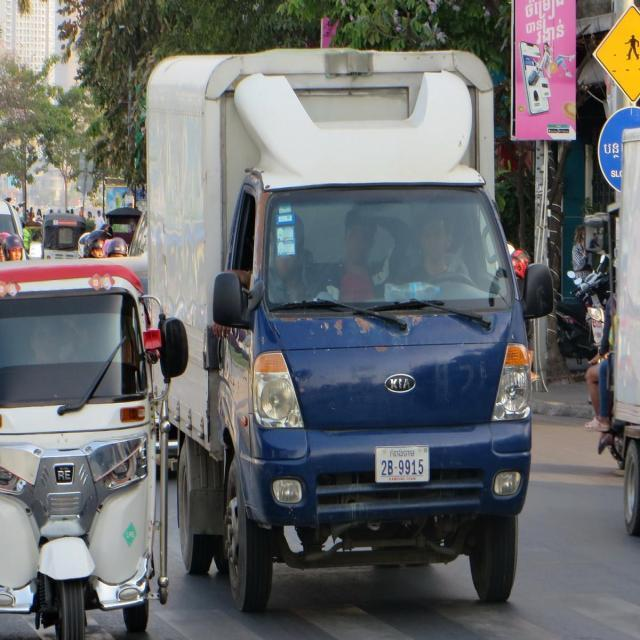Kampong_Cham: (389, 447, 416, 458)
